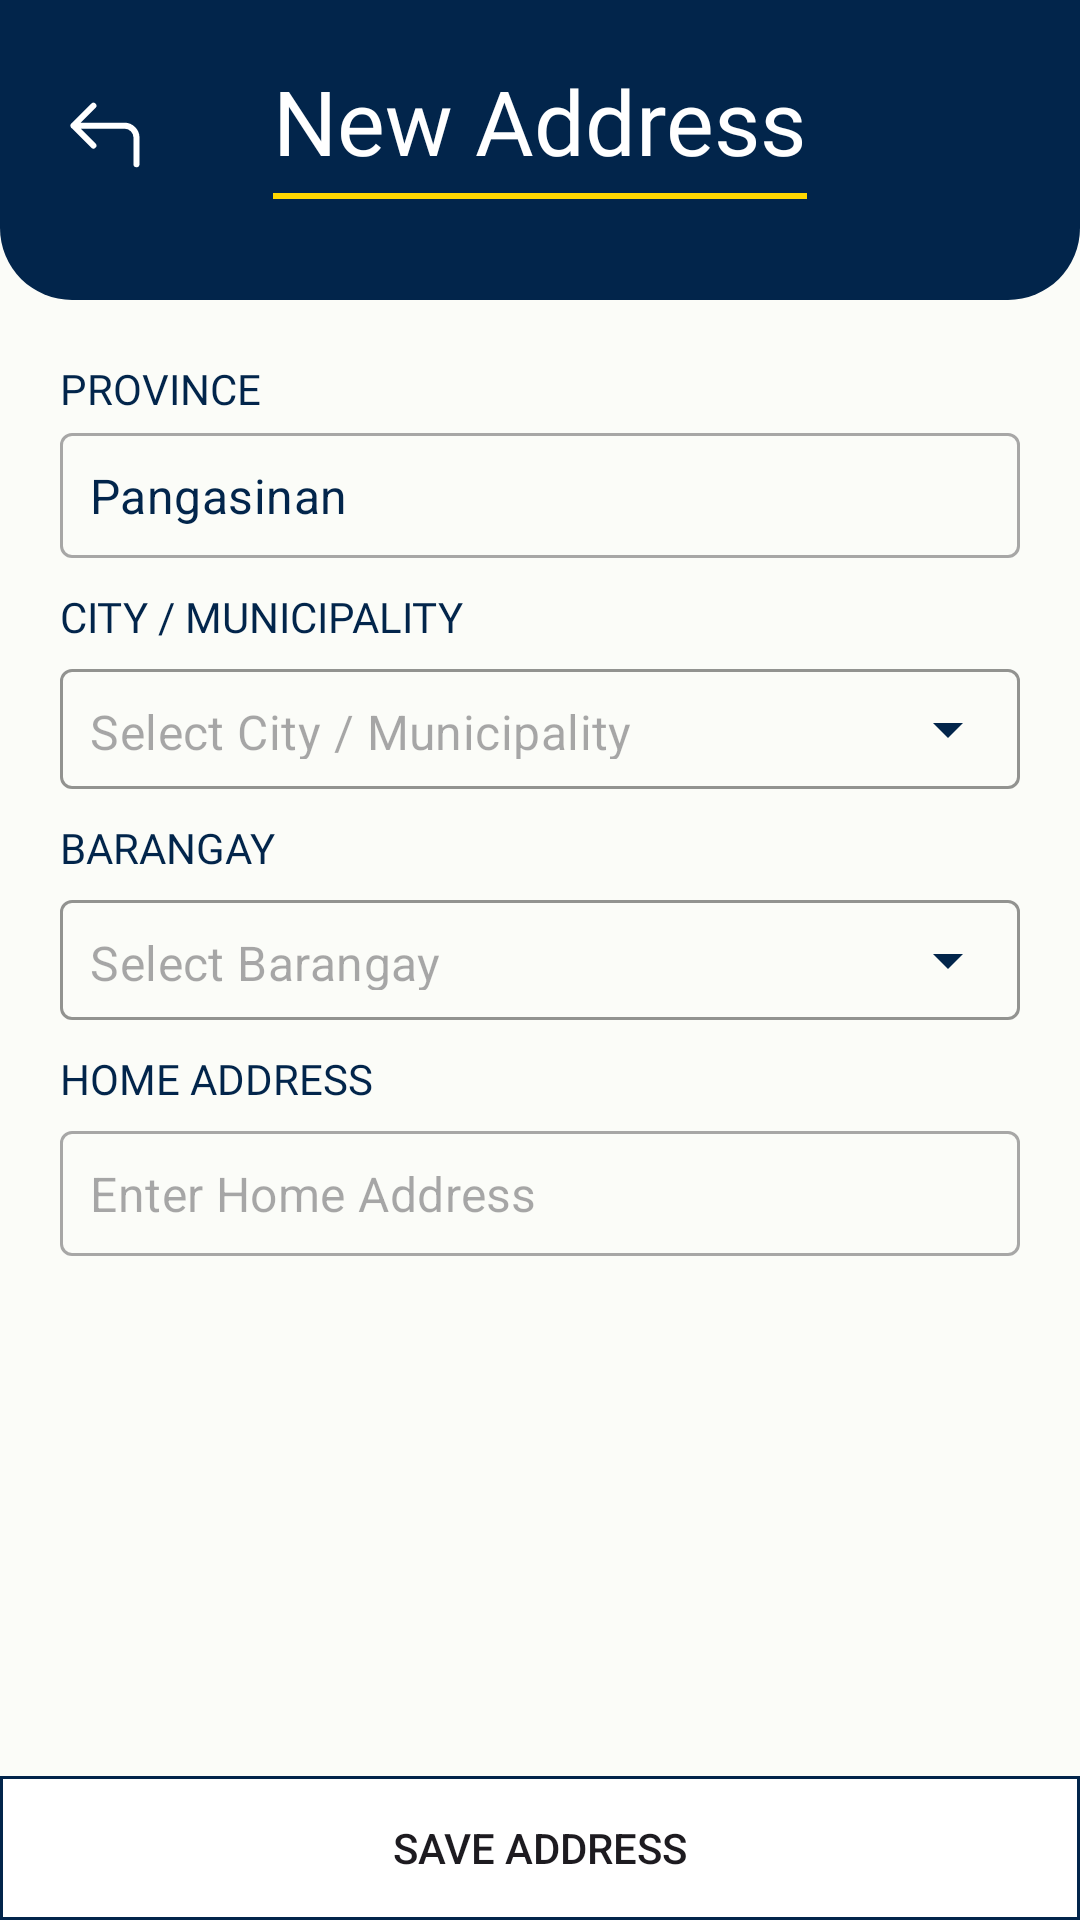

Icon click points for this 1080w x 1920h phone screenshot, format point (x, y):
back: point (105, 135)
